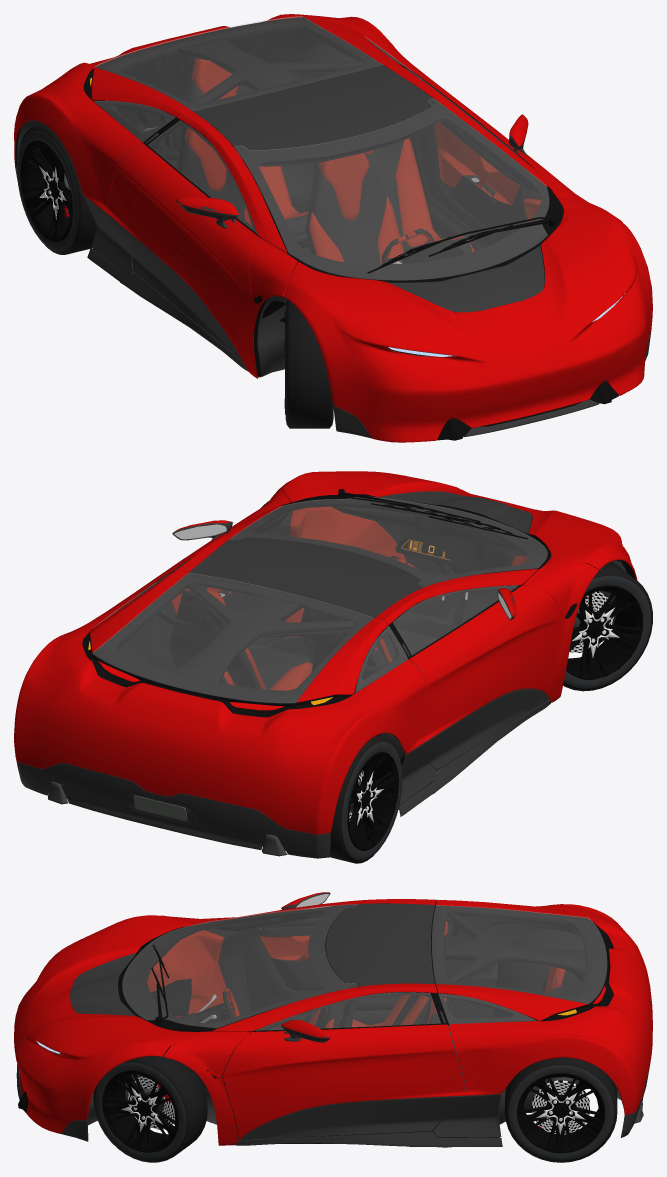
Rendered from car-lod1.glb.
3 views of the same model, one above another, from view 1: azimuth 30°, elevation 25°; view 2: azimuth 150°, elevation 25°; view 3: azimuth 270°, elevation 25° (orthographic). The views are drawn at different scales.
Parts seen in each view (by area): view 1: BodyHood, BodyWindshield, BodyRearwindow, BodyDoorRColor1, BodyRearPanelsColor1, BodyRoofPanel, BodyWindshieldGasket, InteriorSeatsColor1, InteriorSeatsColor2, BodyPillars, InteriorPillar, InteriorRearHatch (+22 smaller); view 2: BodyRearPanelsColor1, BodyRearwindow, BodyWindshield, BodyDoorRColor1, BodyPanelsColor2, BodyRoofPanel, BodyHood, InteriorRearHatch, BodyPillars, InteriorPillar, BodyWindshieldGasket, InteriorDashMid (+22 smaller); view 3: BodyRearPanelsColor1, BodyWindshield, BodyDoorLColor1, BodyHood, BodyRearwindow, BodyRoofPanel, BodyPillars, BodyWindshieldGasket, BodyDoorLColor2, BodyPanelsColor2, WheelFrontL, InteriorRearHatch (+25 smaller).
Boxes of the visible parts, x1=… form: BodyHood: x1=283, y1=198, x2=652, y2=442; BodyWindshield: x1=234, y1=98, x2=548, y2=280; BodyRearwindow: x1=95, y1=16, x2=382, y2=110; BodyDoorRColor1: x1=104, y1=143, x2=257, y2=363; BodyRearPanelsColor1: x1=14, y1=14, x2=429, y2=210; BodyRoofPanel: x1=193, y1=65, x2=432, y2=150; BodyWindshieldGasket: x1=234, y1=99, x2=563, y2=282; InteriorSeatsColor1: x1=185, y1=58, x2=475, y2=264; InteriorSeatsColor2: x1=180, y1=77, x2=471, y2=264; BodyPillars: x1=176, y1=61, x2=598, y2=378; InteriorPillar: x1=157, y1=37, x2=434, y2=168; InteriorRearHatch: x1=93, y1=17, x2=382, y2=117; BodyRearPanelsColor1: x1=14, y1=569, x2=425, y2=834; BodyRearwindow: x1=92, y1=573, x2=373, y2=703; BodyWindshield: x1=229, y1=497, x2=547, y2=587; BodyDoorRColor1: x1=409, y1=585, x2=562, y2=742; BodyPanelsColor2: x1=16, y1=699, x2=550, y2=858; BodyRoofPanel: x1=189, y1=537, x2=422, y2=617; BodyHood: x1=278, y1=471, x2=637, y2=579; InteriorRearHatch: x1=93, y1=573, x2=385, y2=707; BodyPillars: x1=175, y1=489, x2=598, y2=702; InteriorPillar: x1=174, y1=574, x2=418, y2=682; BodyWindshieldGasket: x1=230, y1=497, x2=550, y2=587; InteriorDashMid: x1=331, y1=503, x2=525, y2=621; BodyRearPanelsColor1: x1=436, y1=899, x2=652, y2=1115; BodyWindshield: x1=122, y1=904, x2=357, y2=1028; BodyDoorLColor1: x1=222, y1=1024, x2=467, y2=1139; BodyHood: x1=14, y1=915, x2=196, y2=1133; BodyRearwindow: x1=432, y1=905, x2=606, y2=1003; BodyRoofPanel: x1=326, y1=903, x2=434, y2=986; BodyPillars: x1=163, y1=899, x2=437, y2=1145; BodyWindshieldGasket: x1=118, y1=905, x2=357, y2=1032; BodyDoorLColor2: x1=240, y1=1095, x2=467, y2=1140; BodyPanelsColor2: x1=16, y1=1062, x2=650, y2=1147; WheelFrontL: x1=93, y1=1054, x2=207, y2=1162; InteriorRearHatch: x1=431, y1=905, x2=606, y2=1020.
Size of the model in its own units: 2.54 by 1.15 by 4.36.
23 materials, 2 textured.
